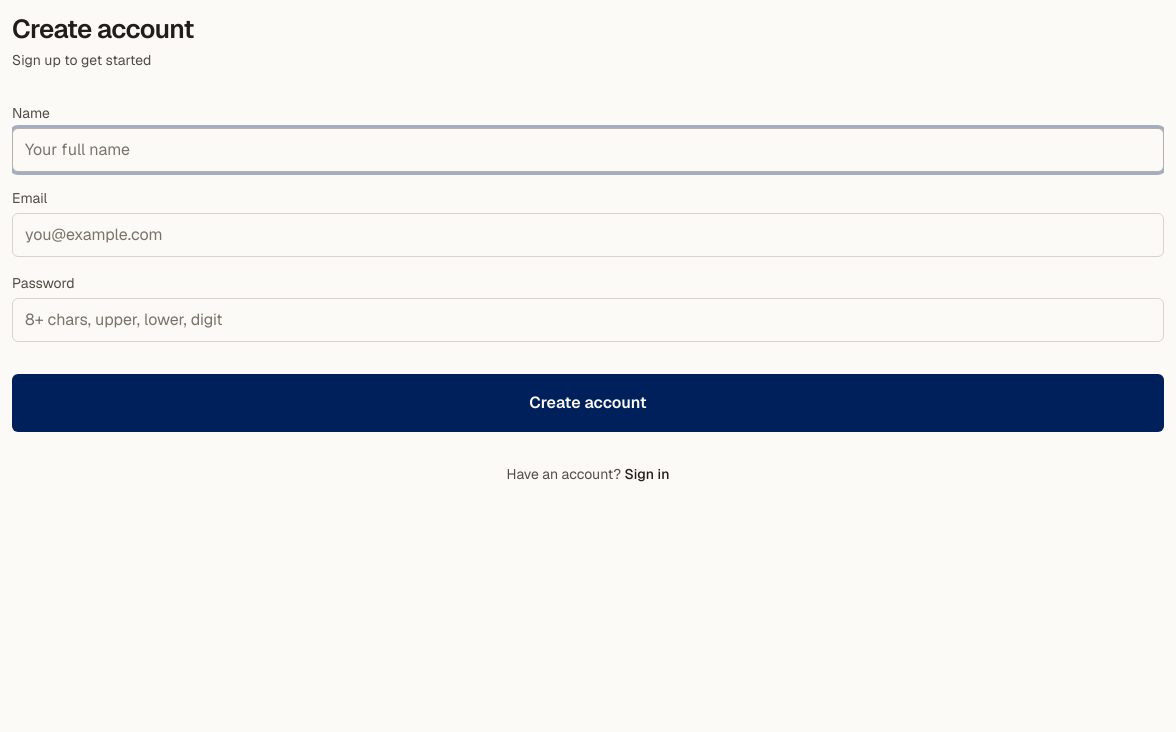
Test: RegisterPage › uses errorMessage fallback when error has no code
Type "A" into the field labelled "Name" at {"x": 588, "y": 150}, box 12,128 -> 1164,172
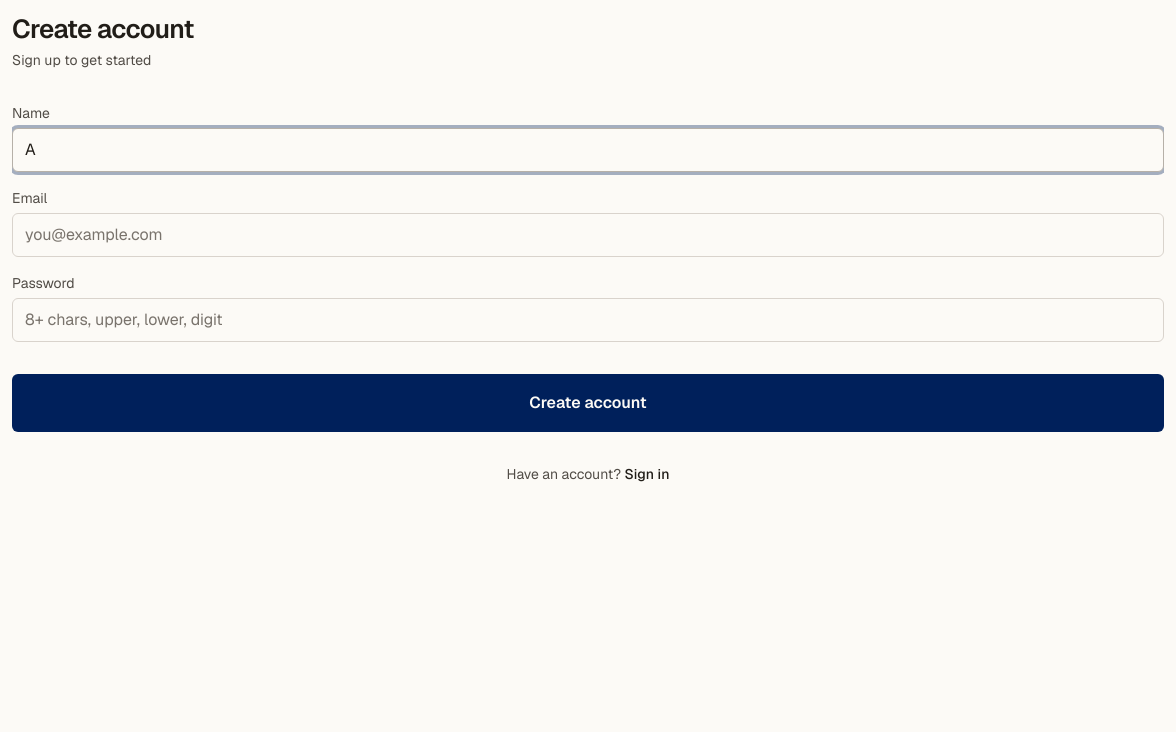
Type "e" into the field labelled "Email" at {"x": 588, "y": 235}, box 12,213 -> 1164,257
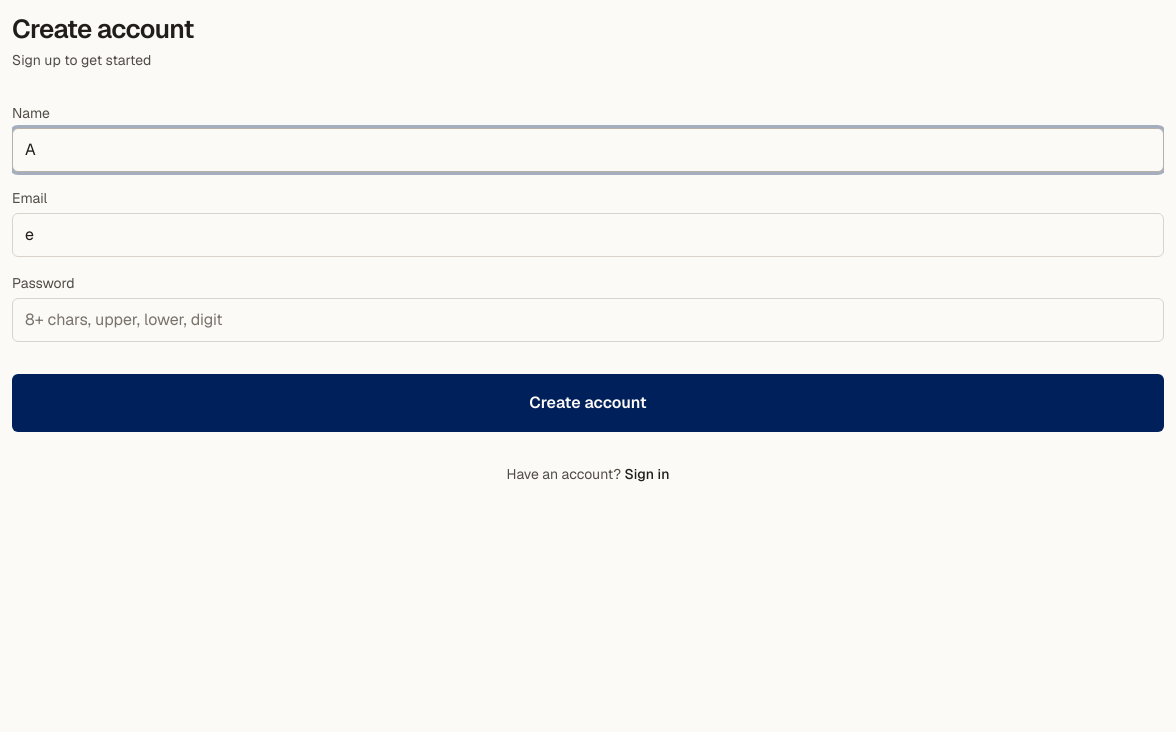
Type "p" into the password field labelled "Password" at {"x": 588, "y": 320}, box 12,298 -> 1164,342
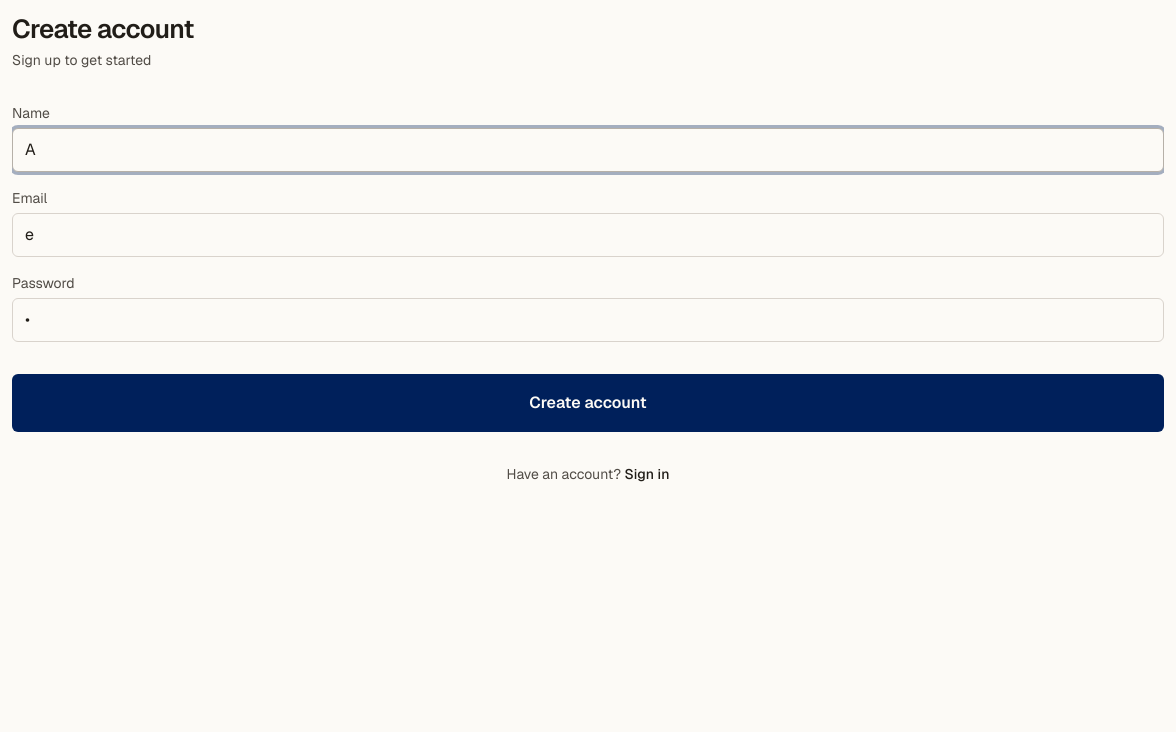
Submit the form "Create account"
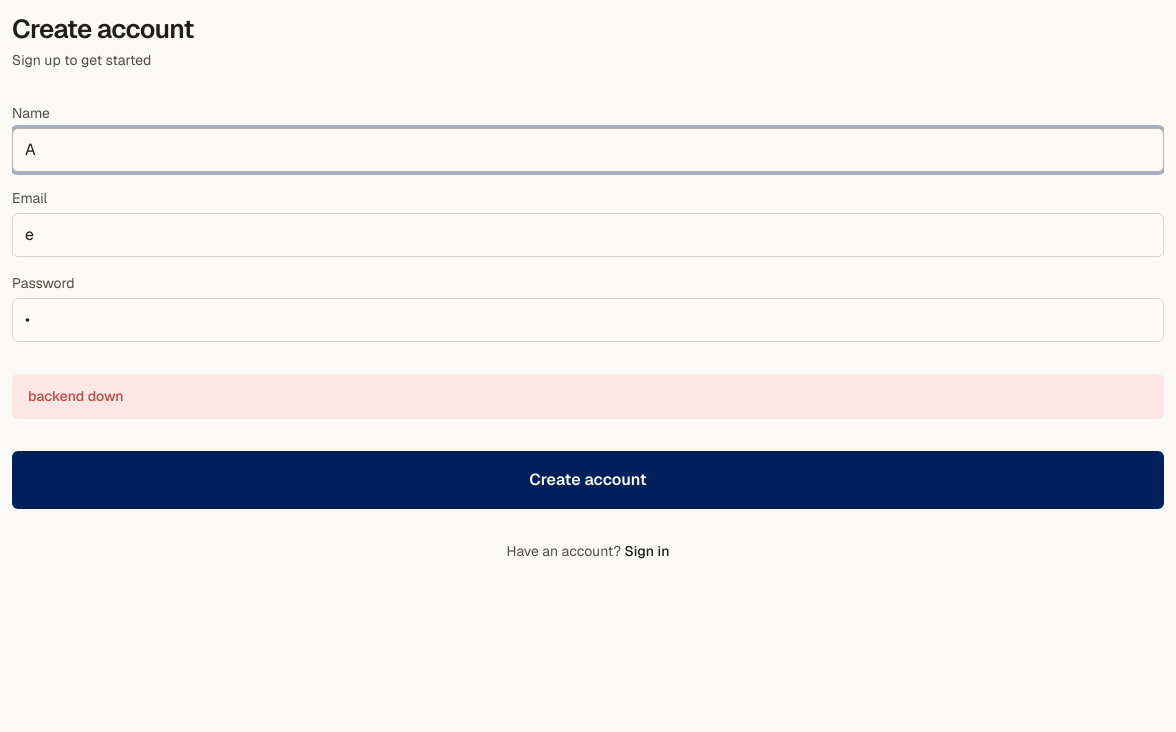
Expected: the message reads "backend down", 28,387 -> 124,405
